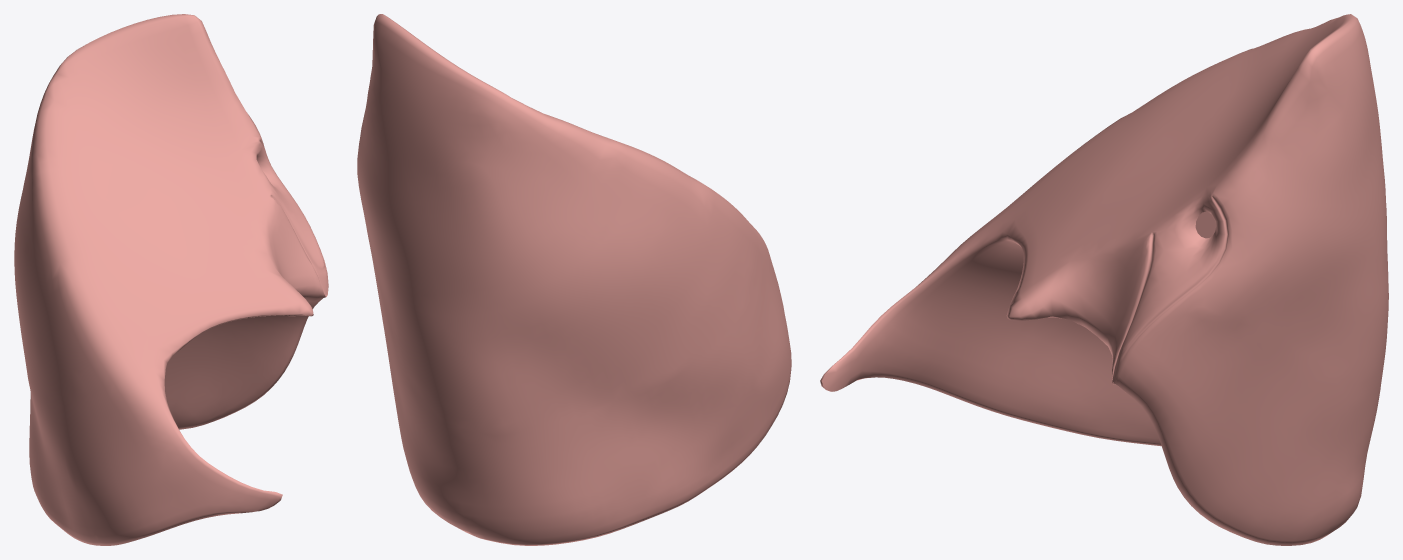
File: lung-inferior-right.glb
3 views of the same model, side by side, from view 1: azimuth 30°, elevation 25°; view 2: azimuth 150°, elevation 25°; view 3: azimuth 270°, elevation 25° (orthographic). The views are drawn at different scales.
Visible parts, largest first — view 1: Inferior lobe of right lung; view 2: Inferior lobe of right lung; view 3: Inferior lobe of right lung.
Part boxes in pixels (<box>): Inferior lobe of right lung: <box>14,14,328,545</box>; Inferior lobe of right lung: <box>357,14,791,545</box>; Inferior lobe of right lung: <box>820,14,1388,545</box>.
Size of the model in its own units: 0.1284 by 0.1805 by 0.1758.
